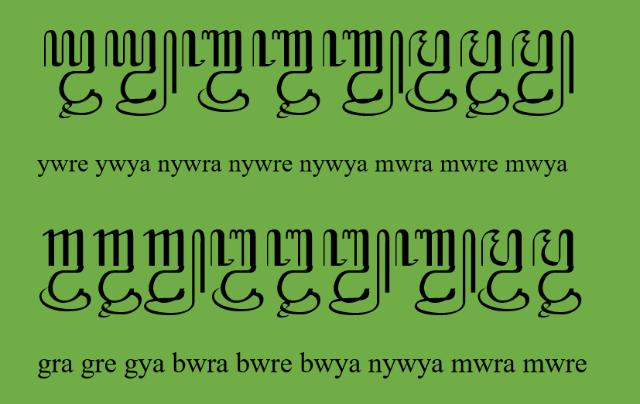bwr: (210, 229, 264, 313)
bwre: (266, 229, 322, 319)
bwy: (323, 230, 391, 316)
gwr: (38, 229, 92, 313)
gwre: (92, 230, 142, 318)
gwy: (144, 230, 206, 318)
mwr: (404, 29, 458, 113), (478, 229, 530, 312)
mwre: (460, 30, 510, 120), (532, 229, 582, 319)
mwy: (512, 28, 574, 117)
nywr: (180, 28, 250, 113)
nywre: (252, 29, 321, 119)
nywy: (394, 229, 476, 317), (322, 29, 403, 117)
ywre: (42, 29, 104, 119)
ywy: (105, 29, 177, 116)
